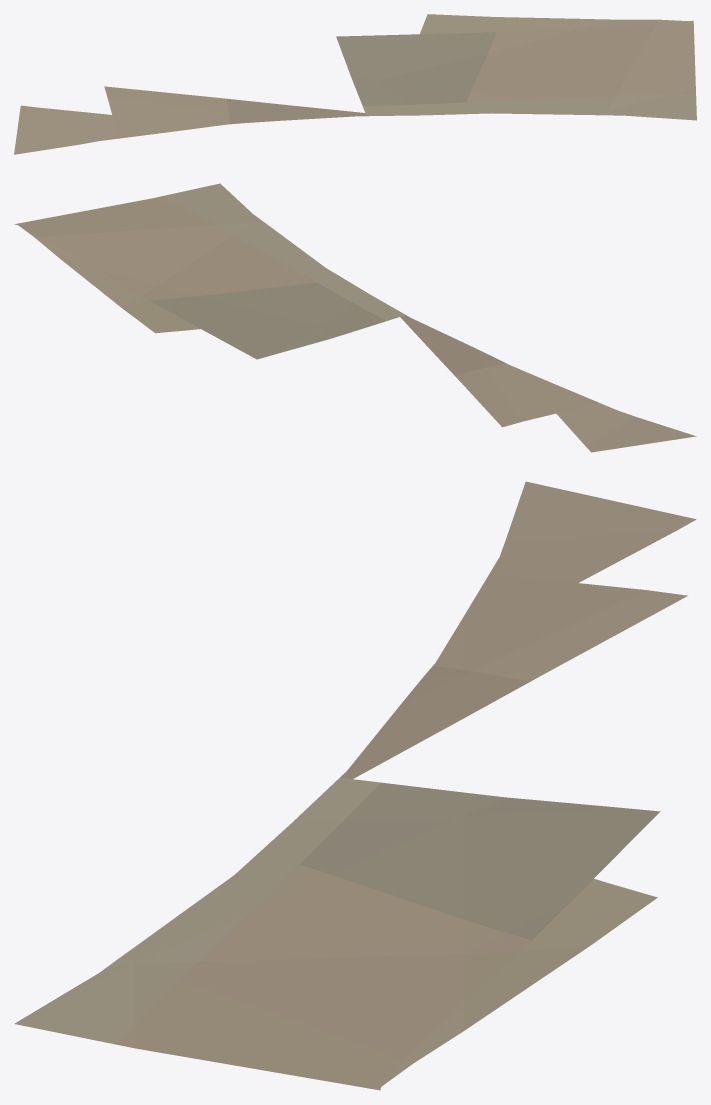
Rendered from farm_11_6_soil.glb.
3 renders of one model, top to bottom at view 1: azimuth 30°, elevation 25°; view 2: azimuth 150°, elevation 25°; view 3: azimuth 270°, elevation 25°, orthographic. The views are drawn at different scales.
Parts seen in each view (by area): view 1: geometry_0; view 2: geometry_0; view 3: geometry_0.
Part boxes in pixels (x1=…): geometry_0: x1=14, y1=14, x2=696, y2=154; geometry_0: x1=14, y1=183, x2=696, y2=452; geometry_0: x1=14, y1=481, x2=696, y2=1090.
Bounding box in the file's own units: 355 × 6.61 × 166.
